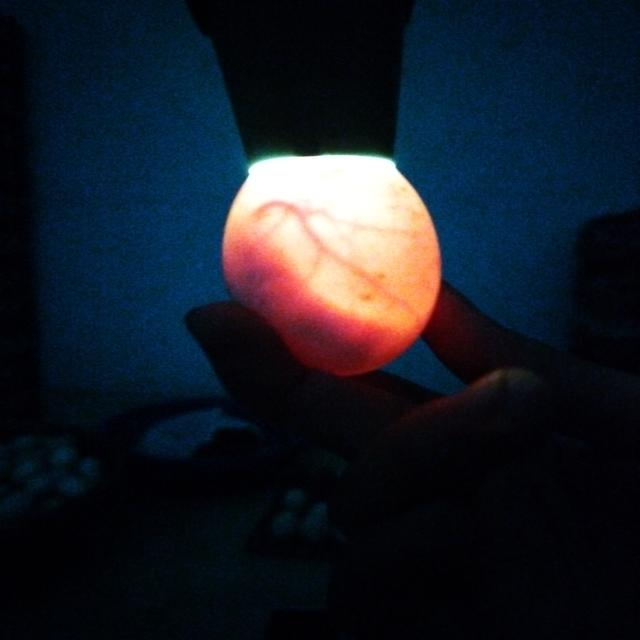Embriao: (221, 245, 428, 378)
